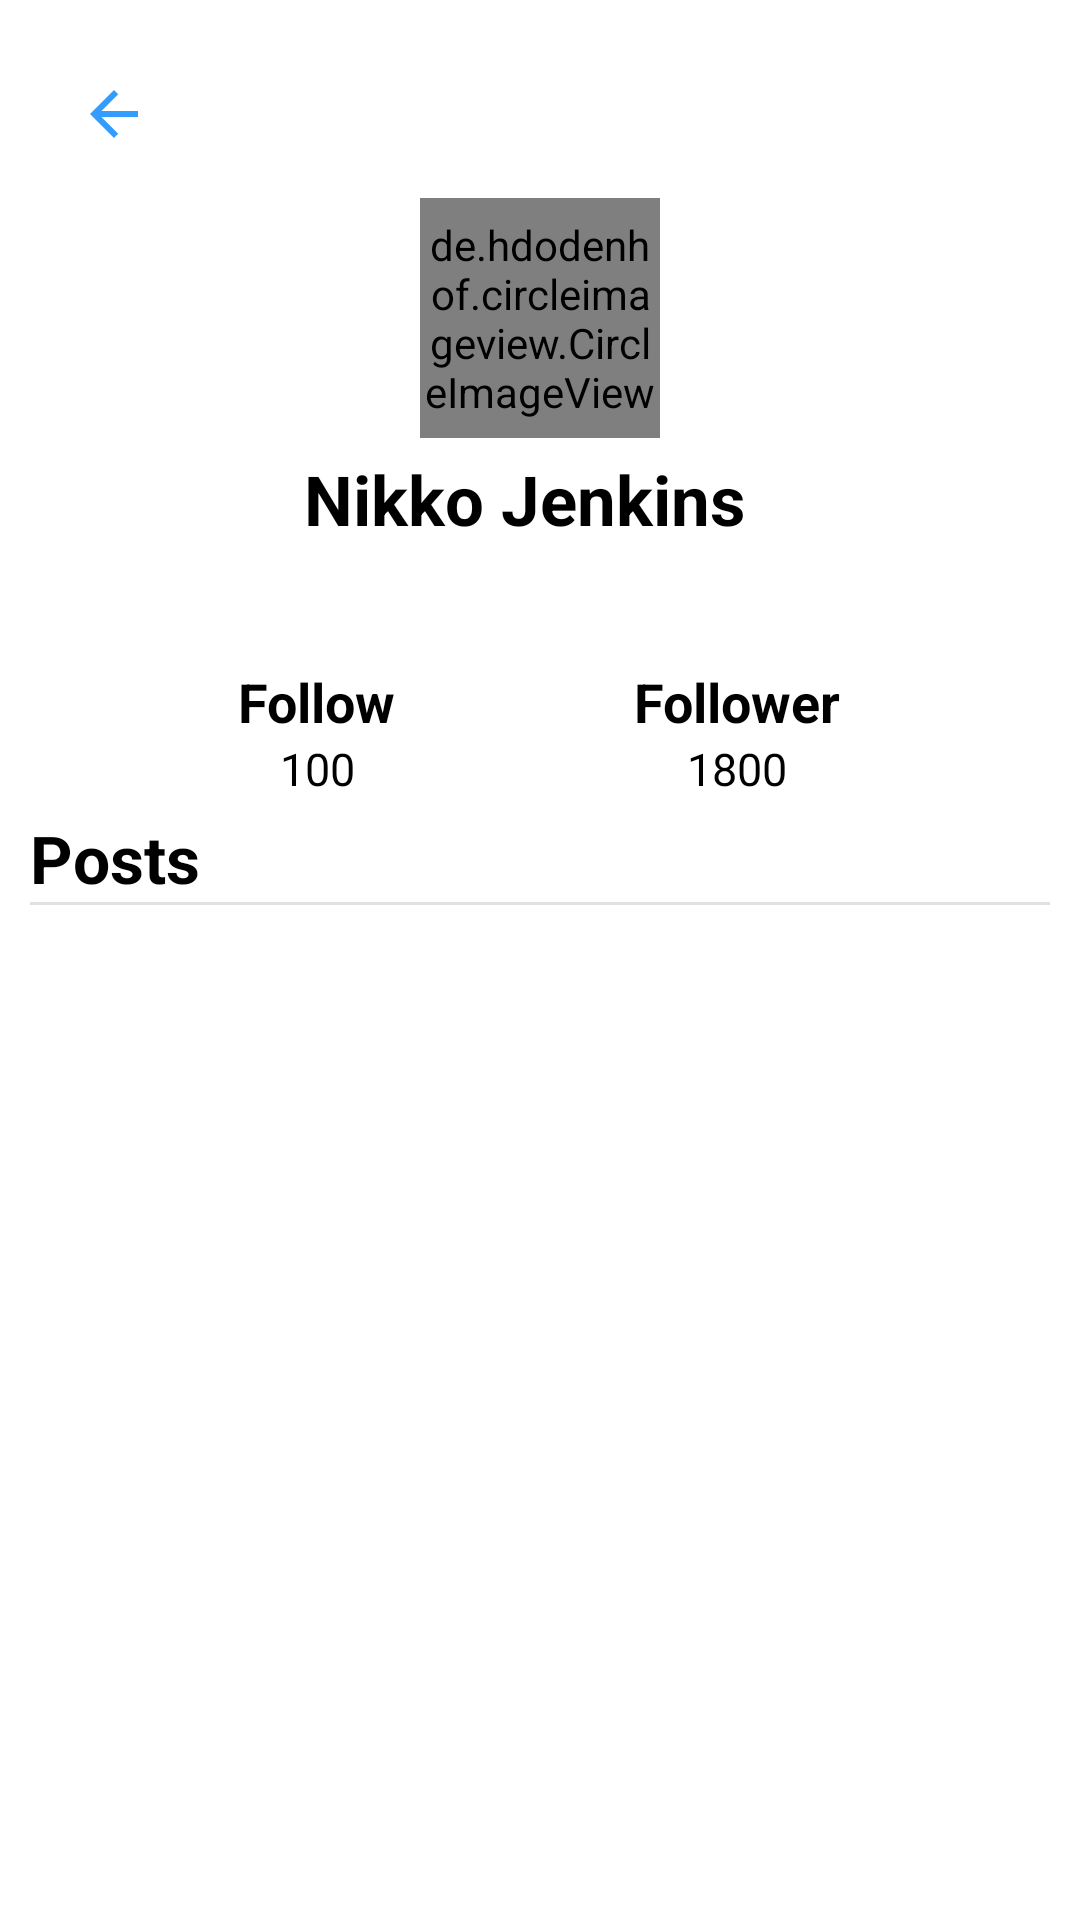

Icons on this 1080w x 1920h Android screen, each with its box as (x1, y1, x2, y2):
back: (90, 90, 138, 138)
